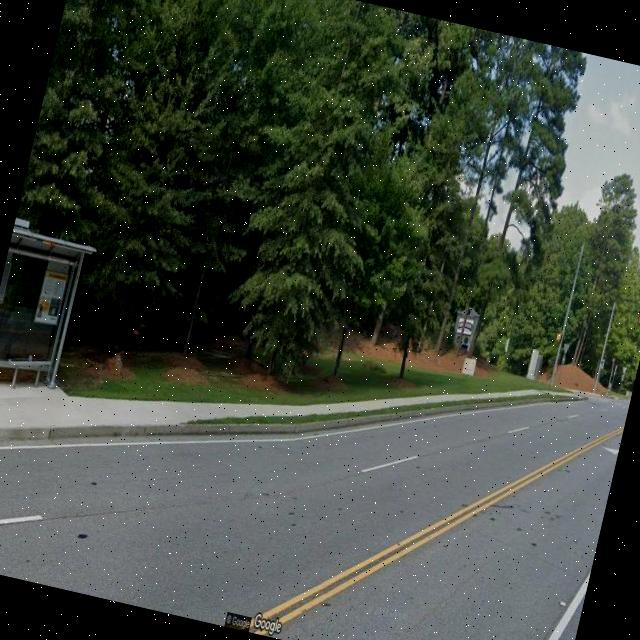seating: (3, 349, 52, 396)
shelter: (0, 224, 98, 419)
